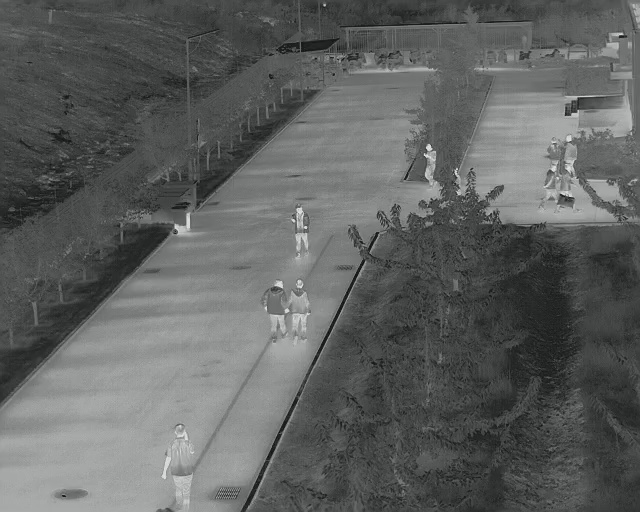person: (160, 423, 196, 512), (262, 278, 289, 347), (286, 278, 312, 346), (556, 162, 581, 212), (291, 203, 311, 260), (540, 163, 559, 211), (422, 143, 439, 191), (560, 133, 578, 176), (546, 135, 562, 169)
